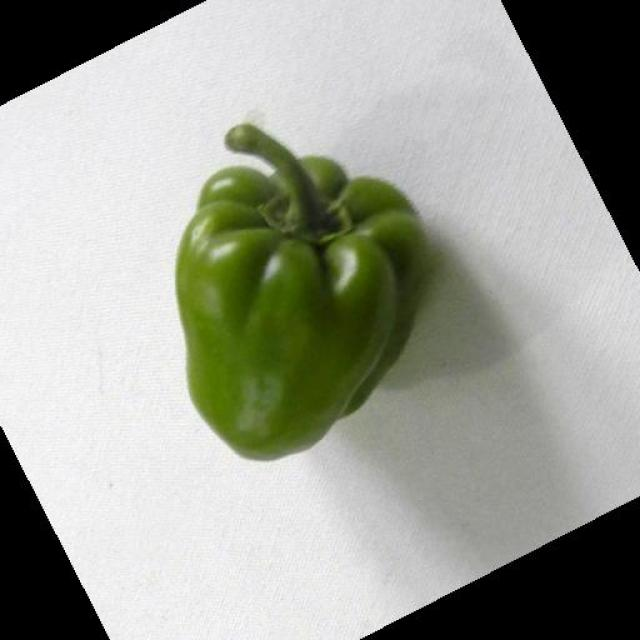Fresh_Capsicum: (170, 124, 417, 458)
